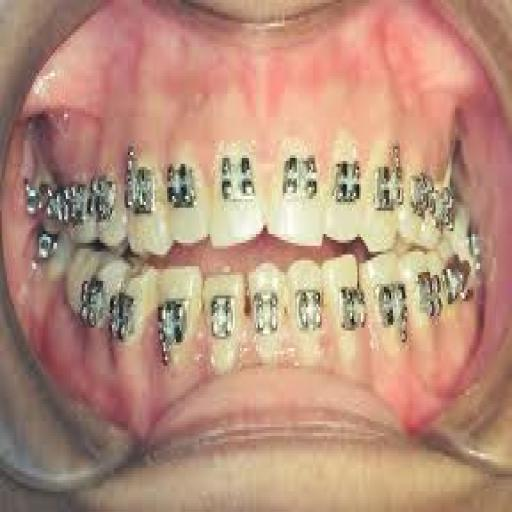correct_brace: (155, 294, 192, 368), (124, 148, 159, 224), (370, 141, 404, 217), (215, 150, 258, 210), (375, 281, 411, 348), (278, 150, 318, 209), (164, 157, 202, 216), (335, 280, 369, 341), (330, 156, 362, 212), (251, 286, 282, 339), (294, 283, 324, 337), (207, 291, 238, 343)
incorrect_brace: (163, 137, 211, 250), (324, 124, 367, 247), (322, 256, 366, 364), (202, 268, 247, 372)
